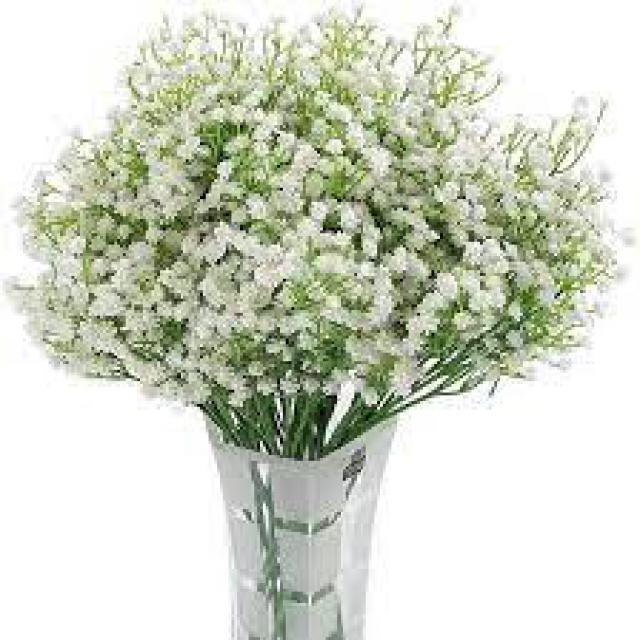gypsophila: (1, 6, 628, 426)
